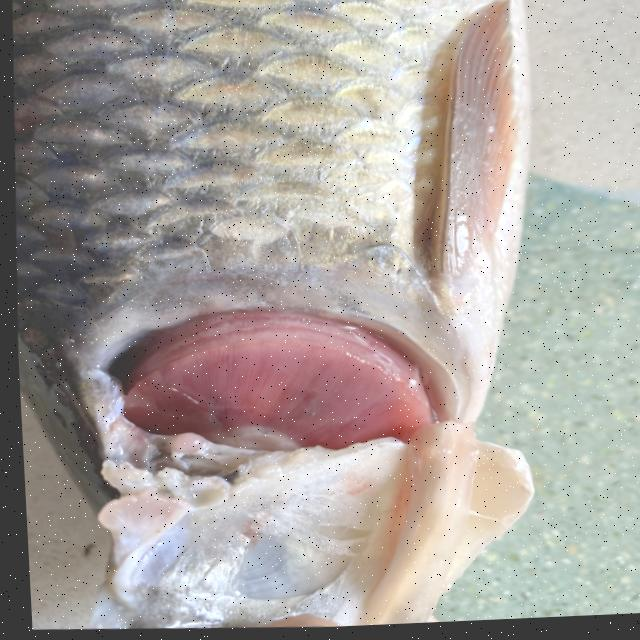Fresh: (94, 303, 470, 491)
